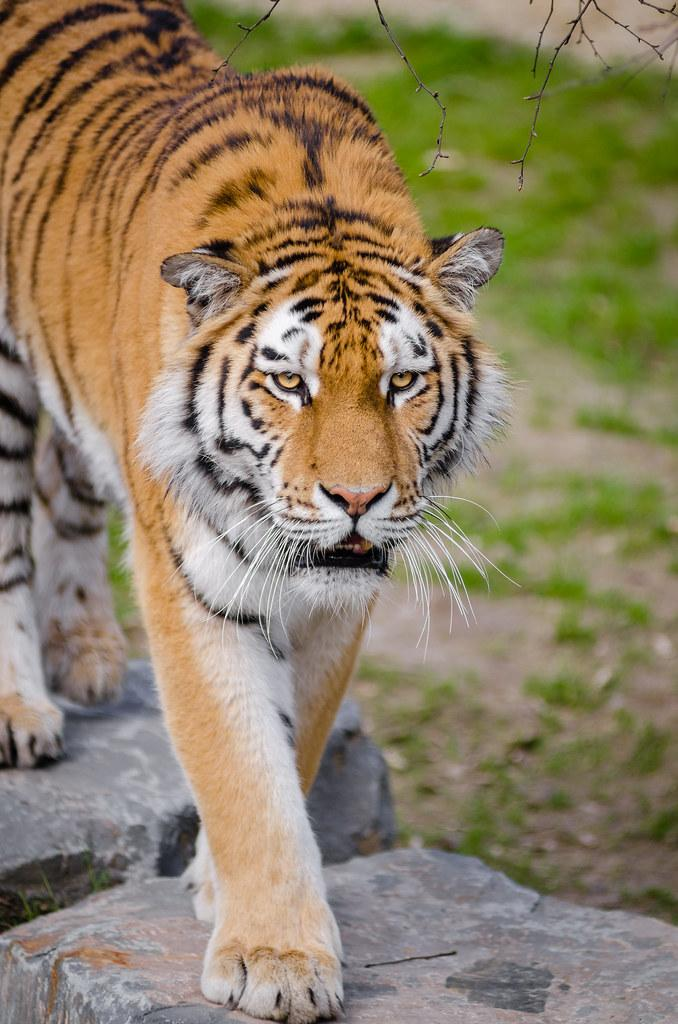tiger: (1, 1, 524, 1023)
